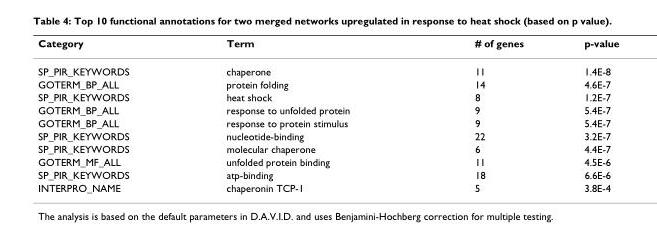table: (37, 36, 618, 193)
table column: (177, 36, 411, 193), (411, 36, 553, 193), (37, 36, 177, 193), (553, 36, 618, 193)
table column header: (37, 36, 618, 56)
table row: (37, 56, 618, 77), (37, 36, 618, 56), (37, 77, 618, 90), (37, 90, 618, 103), (37, 103, 618, 116), (37, 116, 618, 129), (37, 129, 618, 142), (37, 142, 618, 155), (37, 155, 618, 168), (37, 168, 618, 181), (37, 181, 618, 193)
